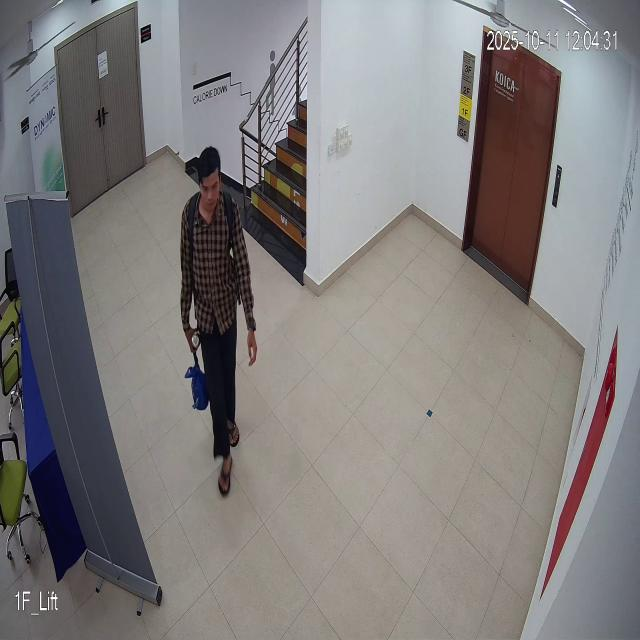face: (193, 144, 224, 213)
